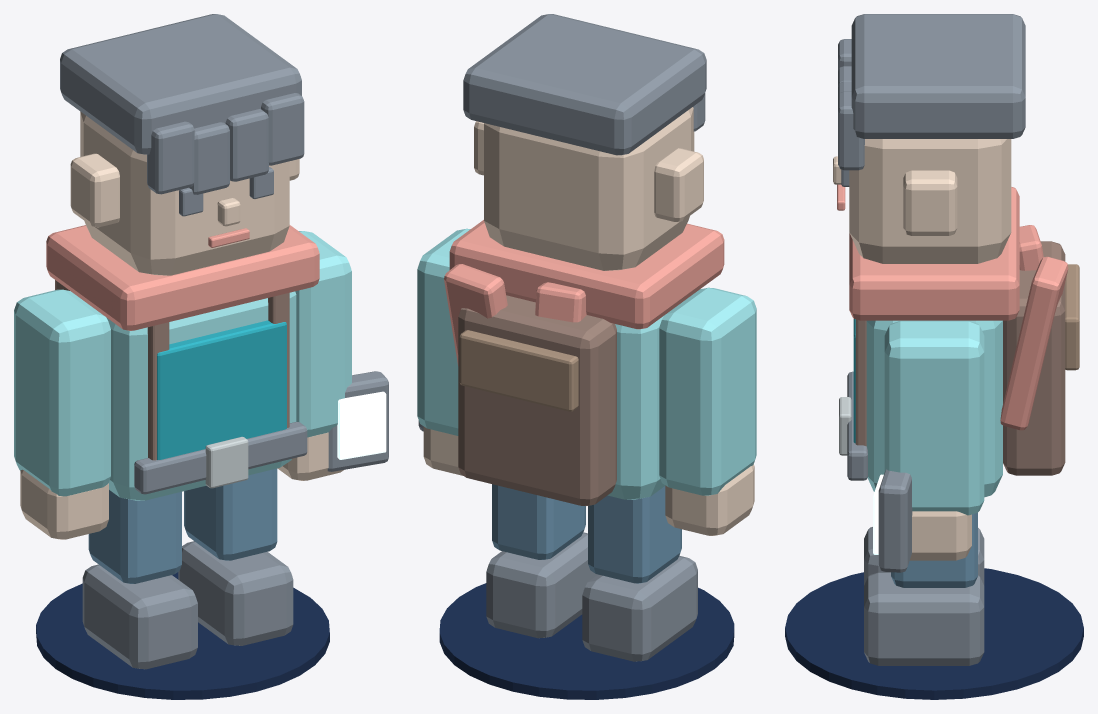
Rendered from 01-explorer.glb.
The picture shows the model from 3 angles, left to right: view 1: azimuth 30°, elevation 25°; view 2: azimuth 150°, elevation 25°; view 3: azimuth 270°, elevation 25°; orthographic projection.
Visible parts, largest first — view 1: Explorer_HairCap, Explorer_Arm_L, Explorer_ContactShadow, Explorer_ScarfWrap, Explorer_Head, Explorer_JacketPanel, Explorer_Body, Explorer_Boot_L, Explorer_Arm_R, Explorer_Boot_R, Explorer_Leg_L, Explorer_Leg_R (+16 smaller); view 2: Explorer_HairCap, Explorer_Head, Explorer_Backpack, Explorer_Arm_L, Explorer_ContactShadow, Explorer_ScarfWrap, Explorer_Boot_L, Explorer_Boot_R, Explorer_Body, Explorer_Leg_L, Explorer_BackpackFlap, Explorer_Arm_R (+6 smaller); view 3: Explorer_HairCap, Explorer_ContactShadow, Explorer_Arm_R, Explorer_Head, Explorer_ScarfWrap, Explorer_Boot_R, Explorer_Backpack, Explorer_Body, Explorer_ScarfTail_A, Explorer_Ear_R, Explorer_MapTerminal, Explorer_Hand_R (+8 smaller).
Part boxes in pixels (x1=…): Explorer_HairCap: x1=60, y1=14, x2=301, y2=154; Explorer_Arm_L: x1=14, y1=289, x2=110, y2=496; Explorer_ContactShadow: x1=36, y1=572, x2=329, y2=699; Explorer_ScarfWrap: x1=46, y1=225, x2=319, y2=330; Explorer_Head: x1=80, y1=111, x2=289, y2=275; Explorer_JacketPanel: x1=157, y1=320, x2=286, y2=459; Explorer_Body: x1=106, y1=291, x2=296, y2=500; Explorer_Boot_L: x1=82, y1=564, x2=197, y2=669; Explorer_Arm_R: x1=295, y1=231, x2=351, y2=437; Explorer_Boot_R: x1=178, y1=541, x2=293, y2=645; Explorer_Leg_L: x1=88, y1=490, x2=181, y2=583; Explorer_Leg_R: x1=184, y1=468, x2=277, y2=560; Explorer_HairCap: x1=463, y1=14, x2=706, y2=155; Explorer_Head: x1=484, y1=107, x2=694, y2=270; Explorer_Backpack: x1=458, y1=295, x2=616, y2=505; Explorer_Arm_L: x1=659, y1=287, x2=756, y2=495; Explorer_ContactShadow: x1=439, y1=583, x2=734, y2=699; Explorer_ScarfWrap: x1=449, y1=220, x2=724, y2=329; Explorer_Boot_L: x1=582, y1=556, x2=697, y2=661; Explorer_Boot_R: x1=486, y1=532, x2=597, y2=638; Explorer_Body: x1=607, y1=316, x2=665, y2=499; Explorer_Leg_L: x1=588, y1=486, x2=681, y2=583; Explorer_BackpackFlap: x1=459, y1=330, x2=578, y2=411; Explorer_Arm_R: x1=417, y1=228, x2=470, y2=435; Explorer_HairCap: x1=851, y1=14, x2=1025, y2=138; Explorer_ContactShadow: x1=785, y1=568, x2=1083, y2=699; Explorer_Arm_R: x1=884, y1=321, x2=984, y2=515; Explorer_Head: x1=849, y1=139, x2=1011, y2=263; Explorer_ScarfWrap: x1=849, y1=187, x2=1019, y2=320; Explorer_Boot_R: x1=864, y1=572, x2=984, y2=665; Explorer_Backpack: x1=1003, y1=241, x2=1065, y2=475; Explorer_Body: x1=866, y1=320, x2=1002, y2=497; Explorer_ScarfTail_A: x1=1000, y1=256, x2=1068, y2=430; Explorer_Ear_R: x1=903, y1=170, x2=957, y2=235; Explorer_MapTerminal: x1=878, y1=469, x2=912, y2=572; Explorer_Hand_R: x1=909, y1=511, x2=971, y2=560.
Size of the model in its own units: 1.88 by 3.12 by 1.44.
